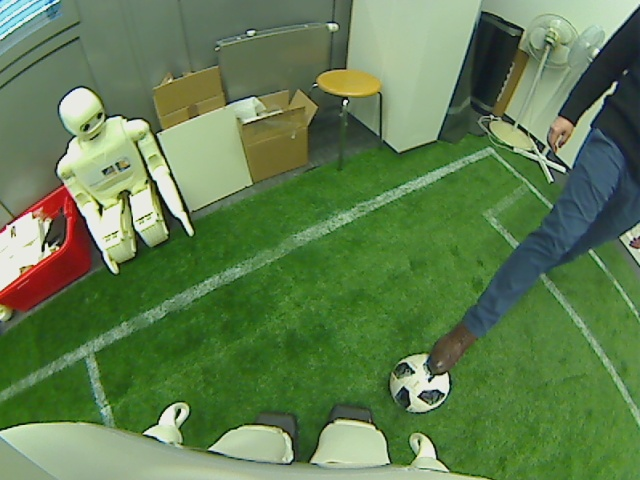ball: (386, 353, 451, 415)
